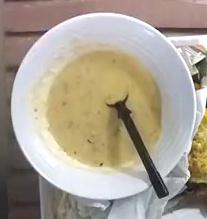soup: (45, 50, 160, 166)
